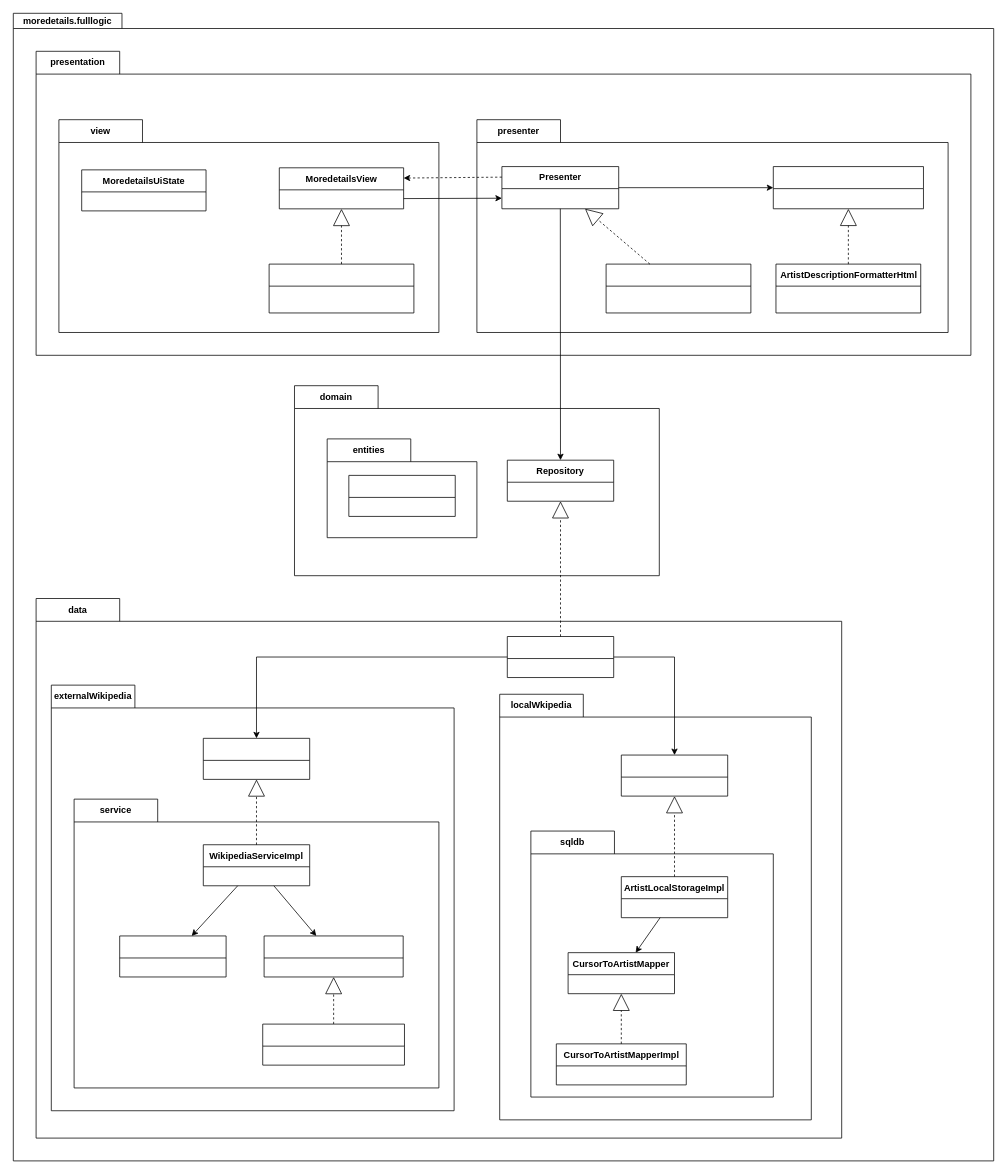
The diagram is 1007 pixels wide and 1174 high, and some of its shapes have lost their labels. Each missing label, with the centre of its shape:
"ArtistDescriptionFormatter" belongs at [848,187].
"ArtistLocalStorage" belongs at [674,775].
"MoredetailsViewImpl" belongs at [341,288].
"PresenterImpl" belongs at [678,288].
"RepositoryImpl" belongs at [560,657].
"WikipediaArtist" belongs at [401,495].
"WikipediaService" belongs at [256,758].
"WikipediaToArtistResolver" belongs at [333,956].
"WikipediaToArtistResolverImpl" belongs at [333,1044].
"WkipediaAPI" belongs at [172,956].
